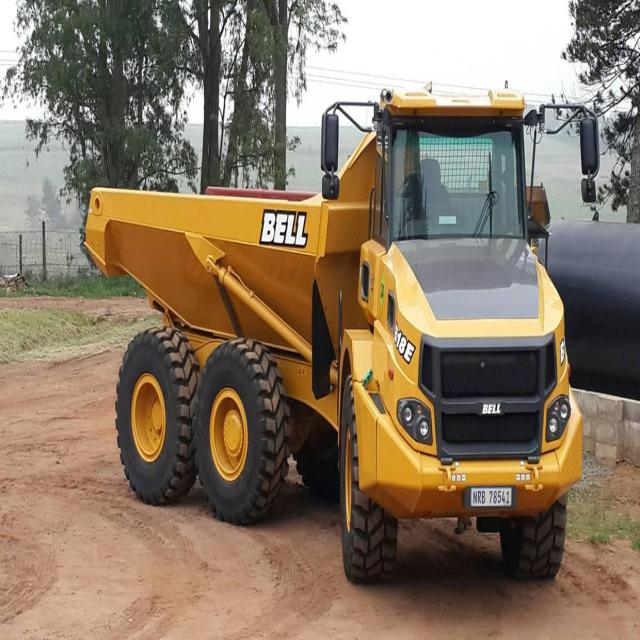dump_truck: (76, 59, 587, 580)
